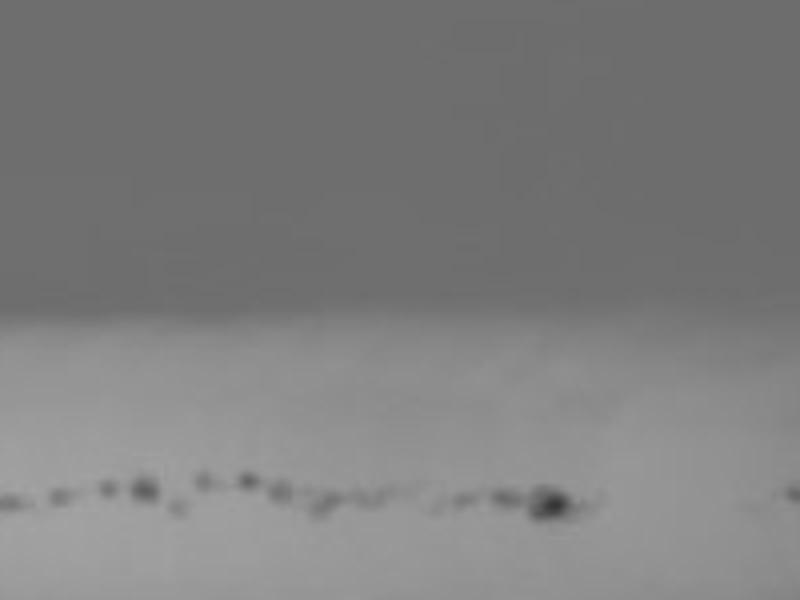defect: (527, 486, 569, 518), (306, 489, 340, 523), (346, 486, 385, 511), (131, 475, 160, 506), (268, 475, 294, 507), (450, 489, 480, 513), (491, 485, 523, 507), (164, 495, 192, 519), (1, 490, 32, 511), (50, 486, 72, 511), (237, 469, 259, 494), (98, 476, 119, 500), (195, 466, 213, 493), (784, 478, 800, 499)
